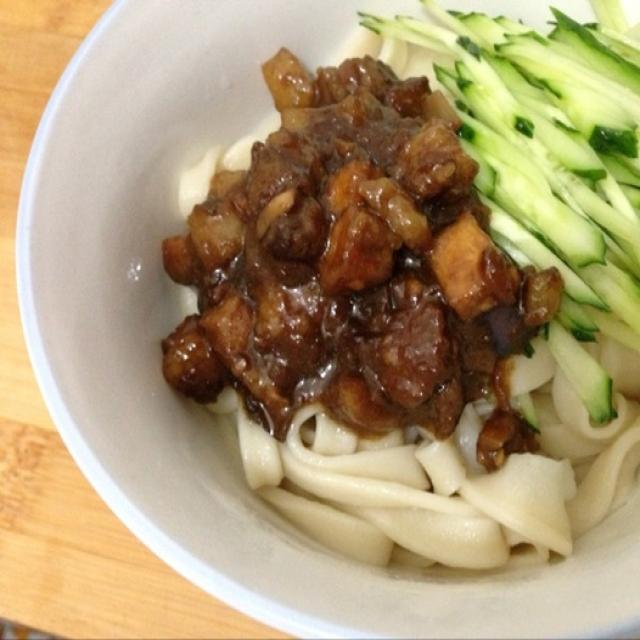面条主食: (140, 15, 634, 580)
